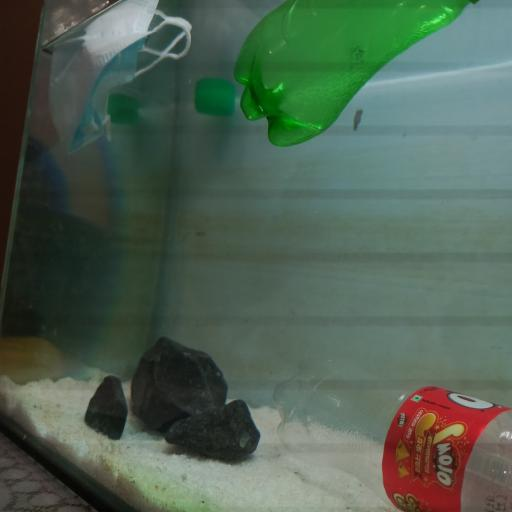bottle_cap: (195, 87, 236, 114)
mask: (47, 0, 192, 156)
plastic_bottle: (274, 355, 512, 511), (233, 1, 467, 148)
